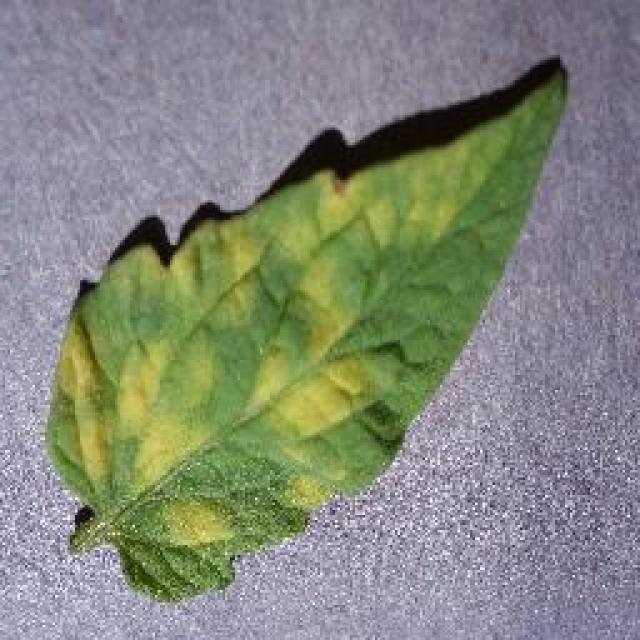Tomato___Leaf_Mold: (48, 58, 565, 598)
